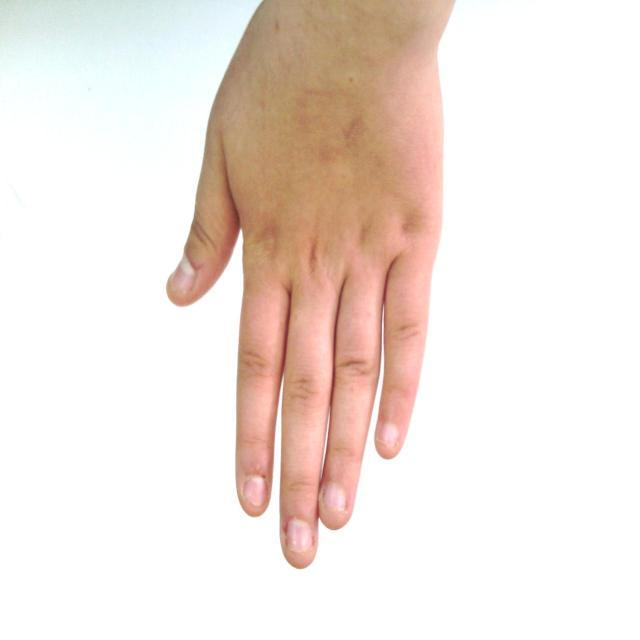Fingernail: (169, 260, 195, 293), (287, 518, 312, 552), (245, 477, 265, 506), (324, 484, 345, 510), (379, 423, 398, 446)
